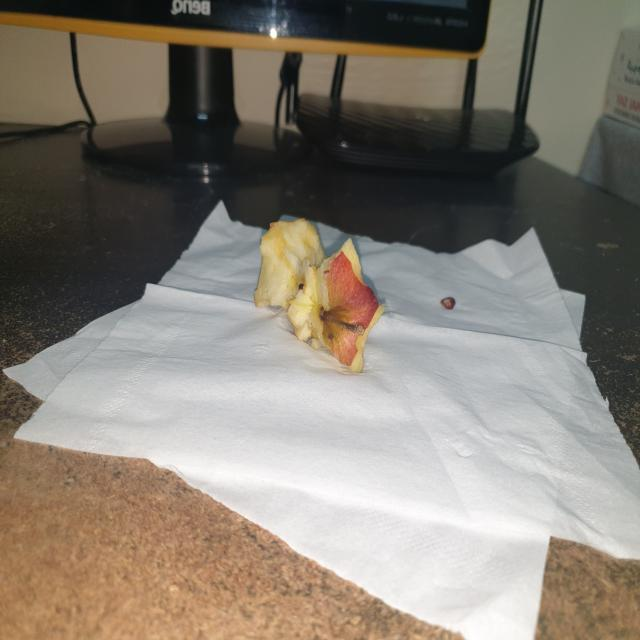apple: (248, 212, 390, 382)
